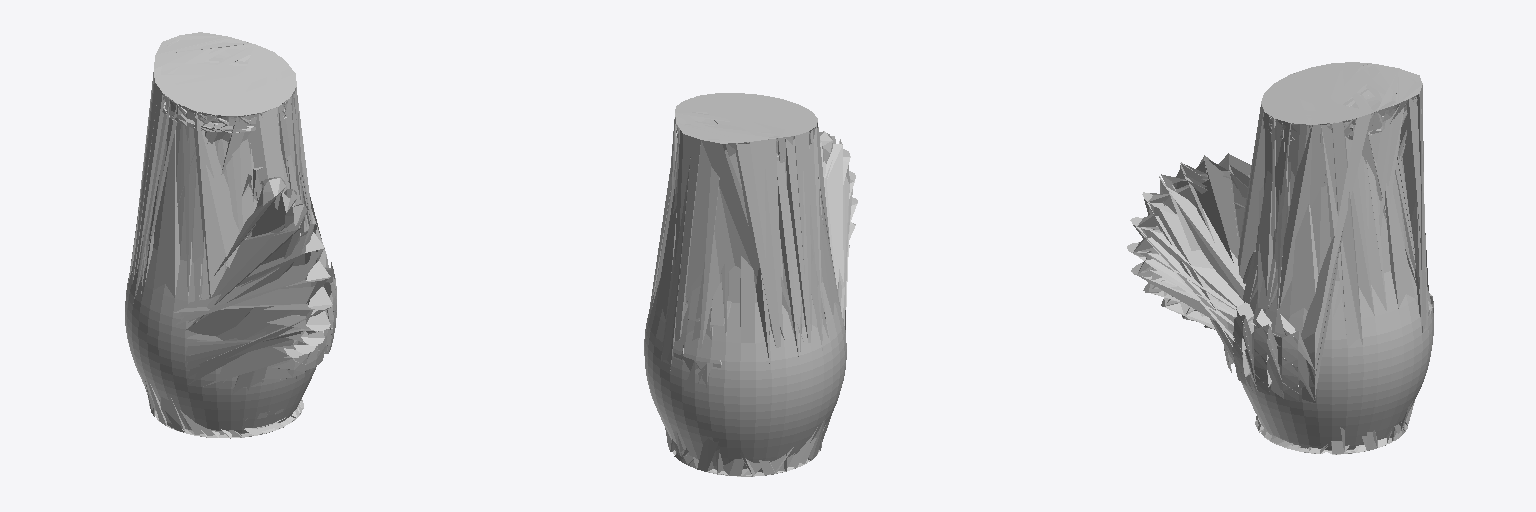
Rendered from Jug of milk.obj.
3 views of the same model, side by side, from view 1: azimuth 30°, elevation 25°; view 2: azimuth 150°, elevation 25°; view 3: azimuth 270°, elevation 25° (orthographic).
Visible parts, largest first — view 1: Cylinder003, Cylinder004; view 2: Cylinder003, Cylinder004; view 3: Cylinder003, Cylinder004.
Boxes of the visible parts, x1=… form: Cylinder003: x1=127, y1=32, x2=336, y2=438; Cylinder004: x1=125, y1=123, x2=316, y2=433; Cylinder003: x1=649, y1=93, x2=857, y2=476; Cylinder004: x1=644, y1=197, x2=846, y2=471; Cylinder003: x1=1127, y1=62, x2=1433, y2=454; Cylinder004: x1=1243, y1=140, x2=1432, y2=450.
Size of the model in its own units: 336 by 595 by 489.